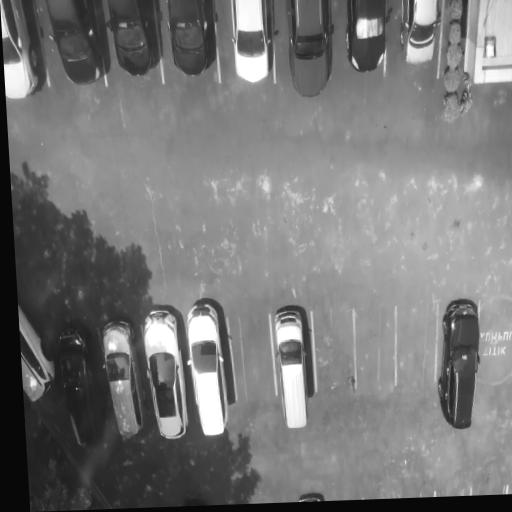Car: (431, 288, 486, 435), (185, 293, 235, 448), (57, 320, 106, 461), (39, 0, 108, 98), (142, 305, 189, 446), (272, 304, 319, 441), (102, 310, 145, 456), (0, 0, 54, 104), (103, 0, 165, 90), (19, 296, 64, 418), (286, 0, 337, 104), (165, 0, 219, 88), (231, 0, 281, 89), (398, 0, 444, 80), (345, 0, 388, 85)
Space Available: (230, 308, 277, 429), (394, 291, 442, 400), (314, 302, 359, 414), (354, 306, 400, 407), (477, 295, 512, 401)
